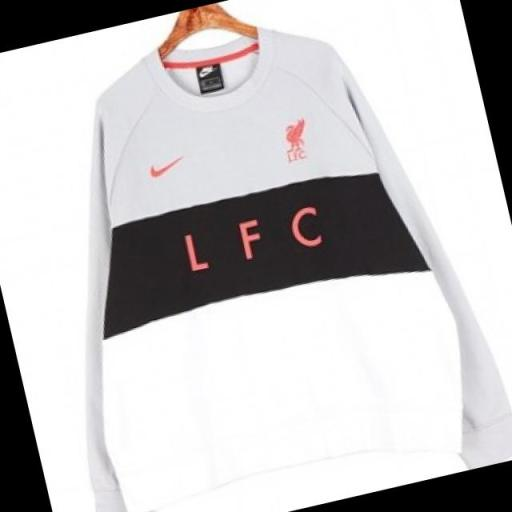Nike: (138, 148, 193, 182)
